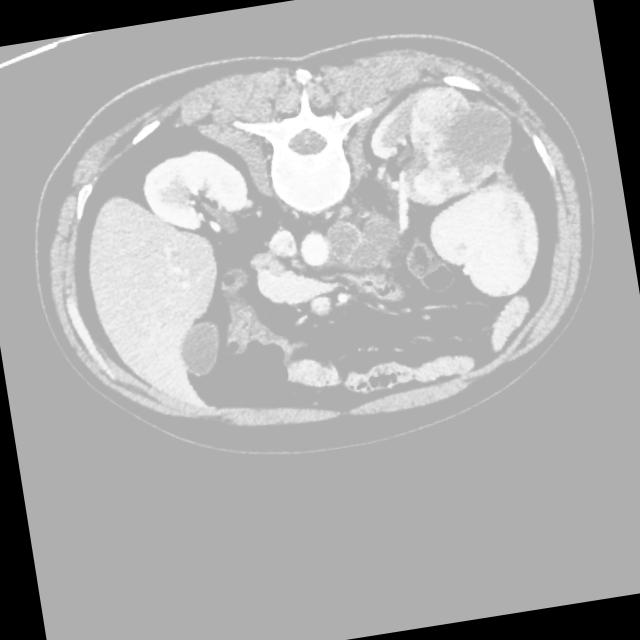TUMOR: (84, 140, 565, 402)
